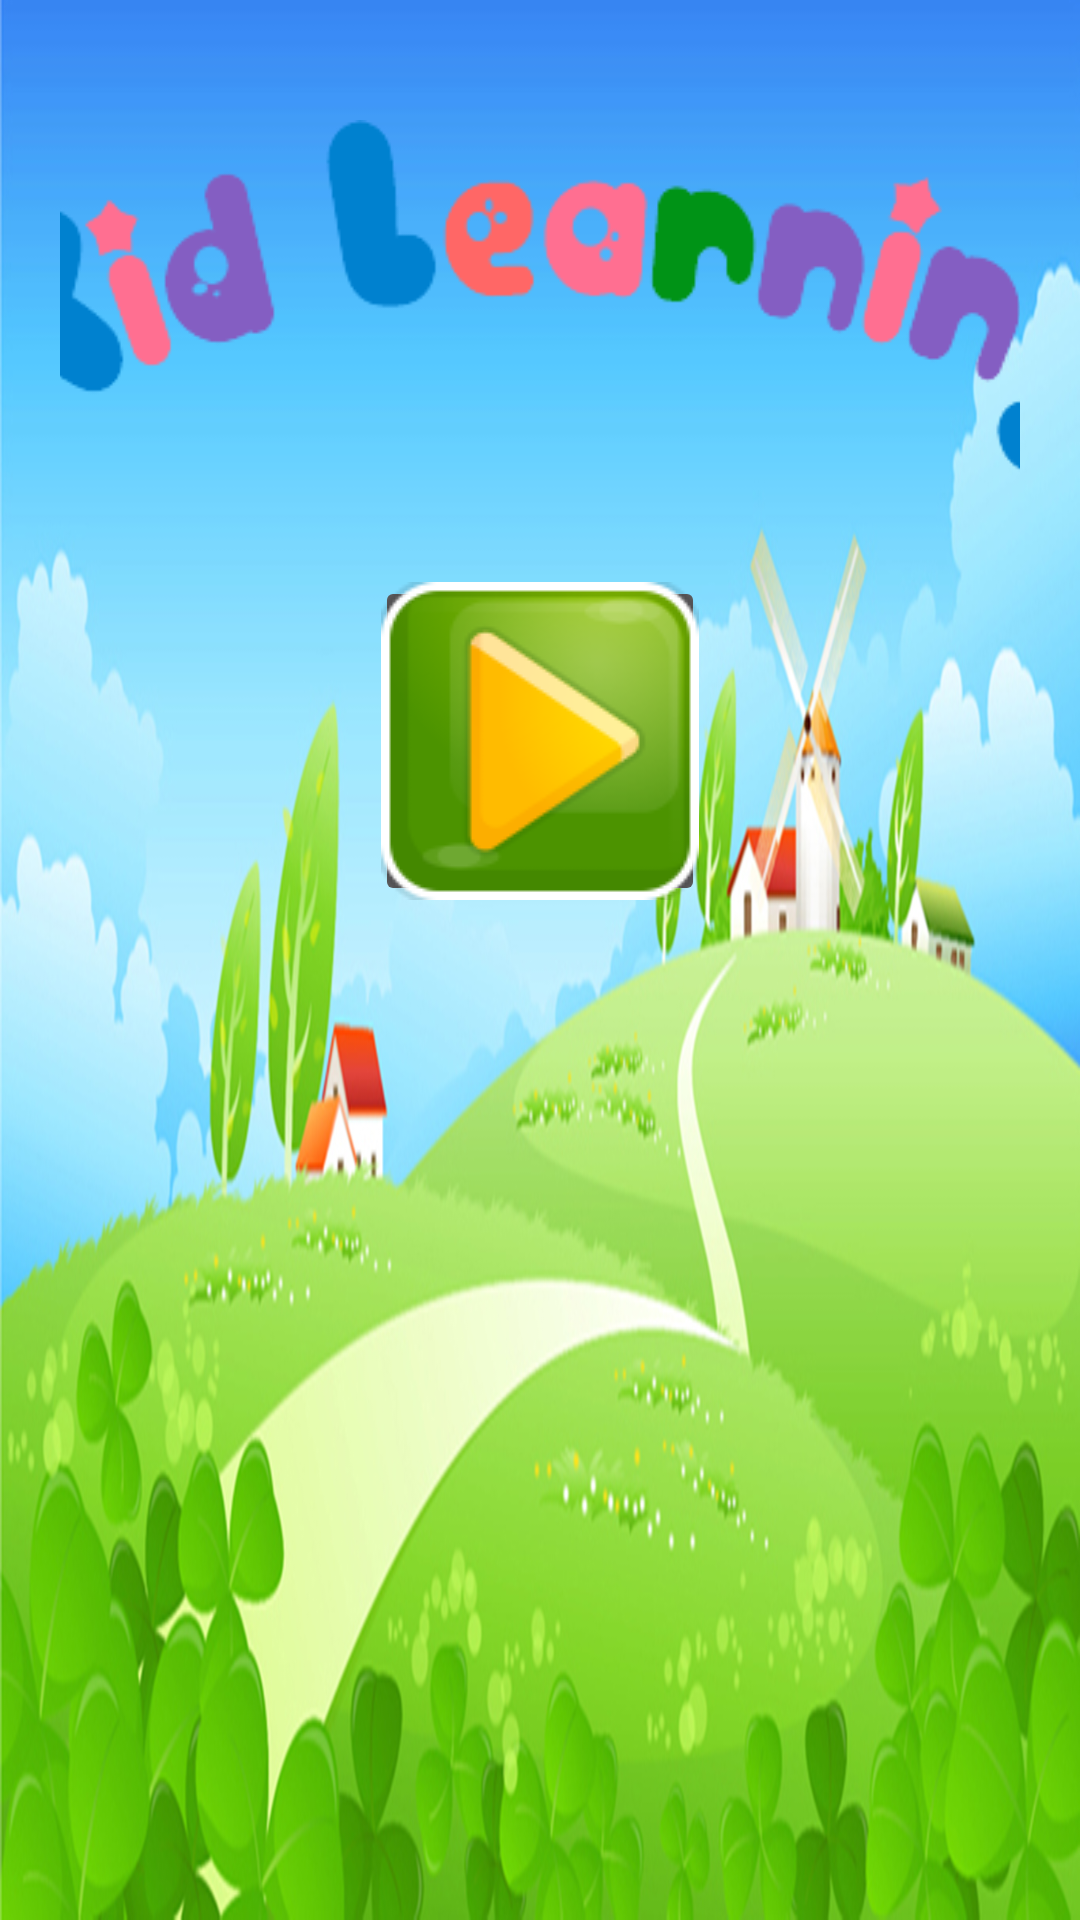

Screen size 1080*1920. Icon name, then its center in pixels as (x,y):
start: (540,741)
